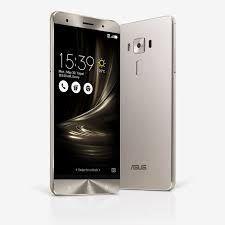asus: (46, 8, 122, 197), (117, 12, 178, 192)
